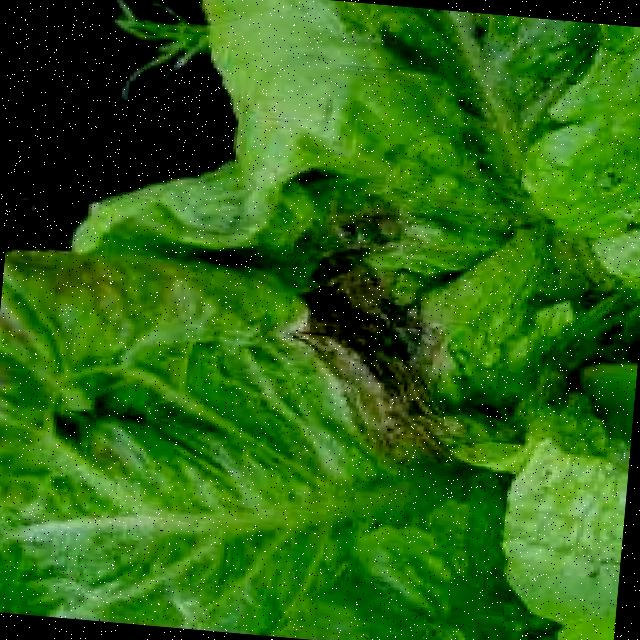Downy_mildew_on_lettuce: (0, 396, 343, 615), (466, 428, 623, 616)
